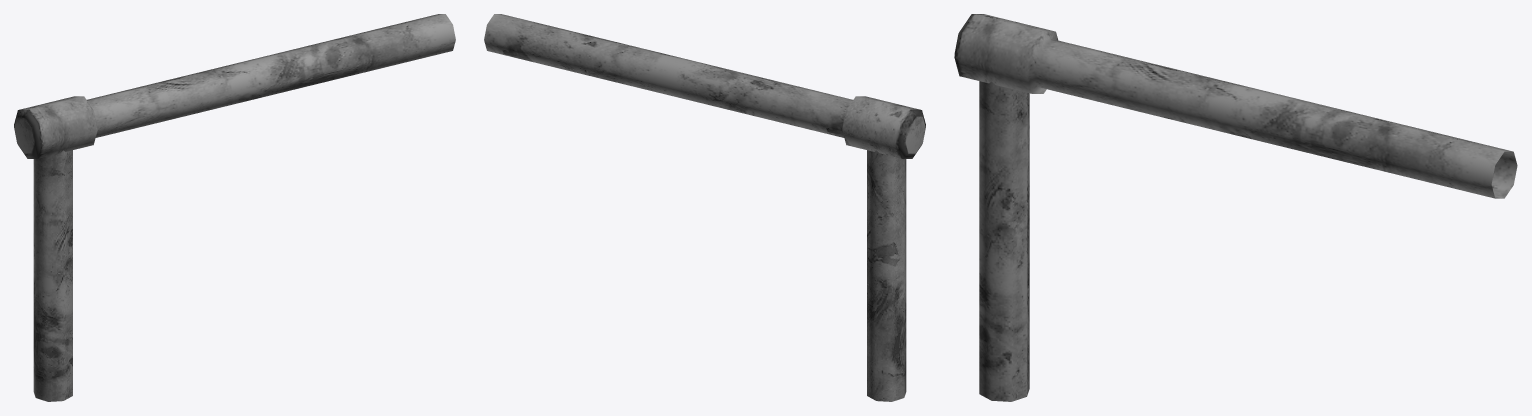
Rendered from Pasamanos.obj.
The picture shows the model from 3 angles, left to right: view 1: azimuth 30°, elevation 25°; view 2: azimuth 150°, elevation 25°; view 3: azimuth 330°, elevation 25°; orthographic projection. The views are drawn at different scales.
Visible parts, largest first — view 1: Tuberia pCube34, pCube33 Tuberia; view 2: Tuberia pCube34, pCube33 Tuberia; view 3: Tuberia pCube34, pCube33 Tuberia.
Part boxes in pixels (x1,y1,x2,y2): Tuberia pCube34: (14, 14, 455, 158); pCube33 Tuberia: (33, 150, 72, 401); Tuberia pCube34: (484, 14, 925, 158); pCube33 Tuberia: (867, 150, 906, 401); Tuberia pCube34: (954, 14, 1517, 198); pCube33 Tuberia: (979, 81, 1029, 401).
Size of the model in its own units: 175 by 115 by 19.41.
